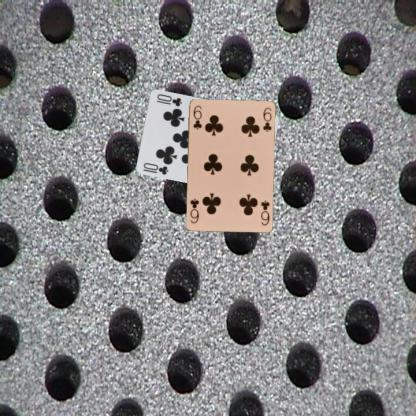10c: (141, 160, 170, 176)
6c: (190, 103, 203, 130), (258, 198, 270, 226)
